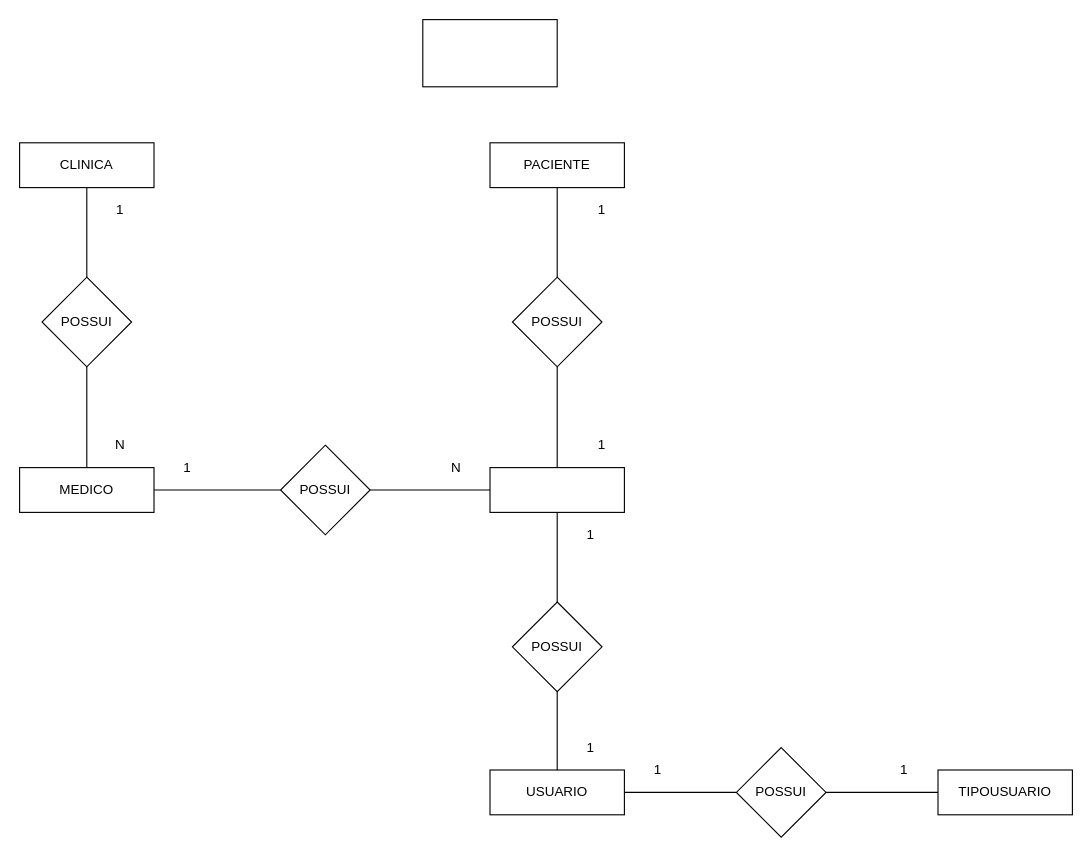
Some shapes in this 1092 by 857 pixel diagram are drawn without their labels. Here are the shapes that lost their labels. From the top down, the centre of each, then its label:
[489,52]: MODELO CONCEITUAL
[556,489]: CONSULTA
